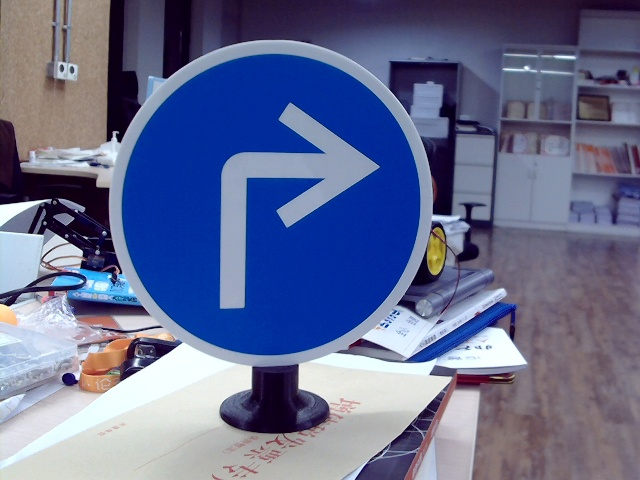turn_right: (200, 108, 380, 316)
